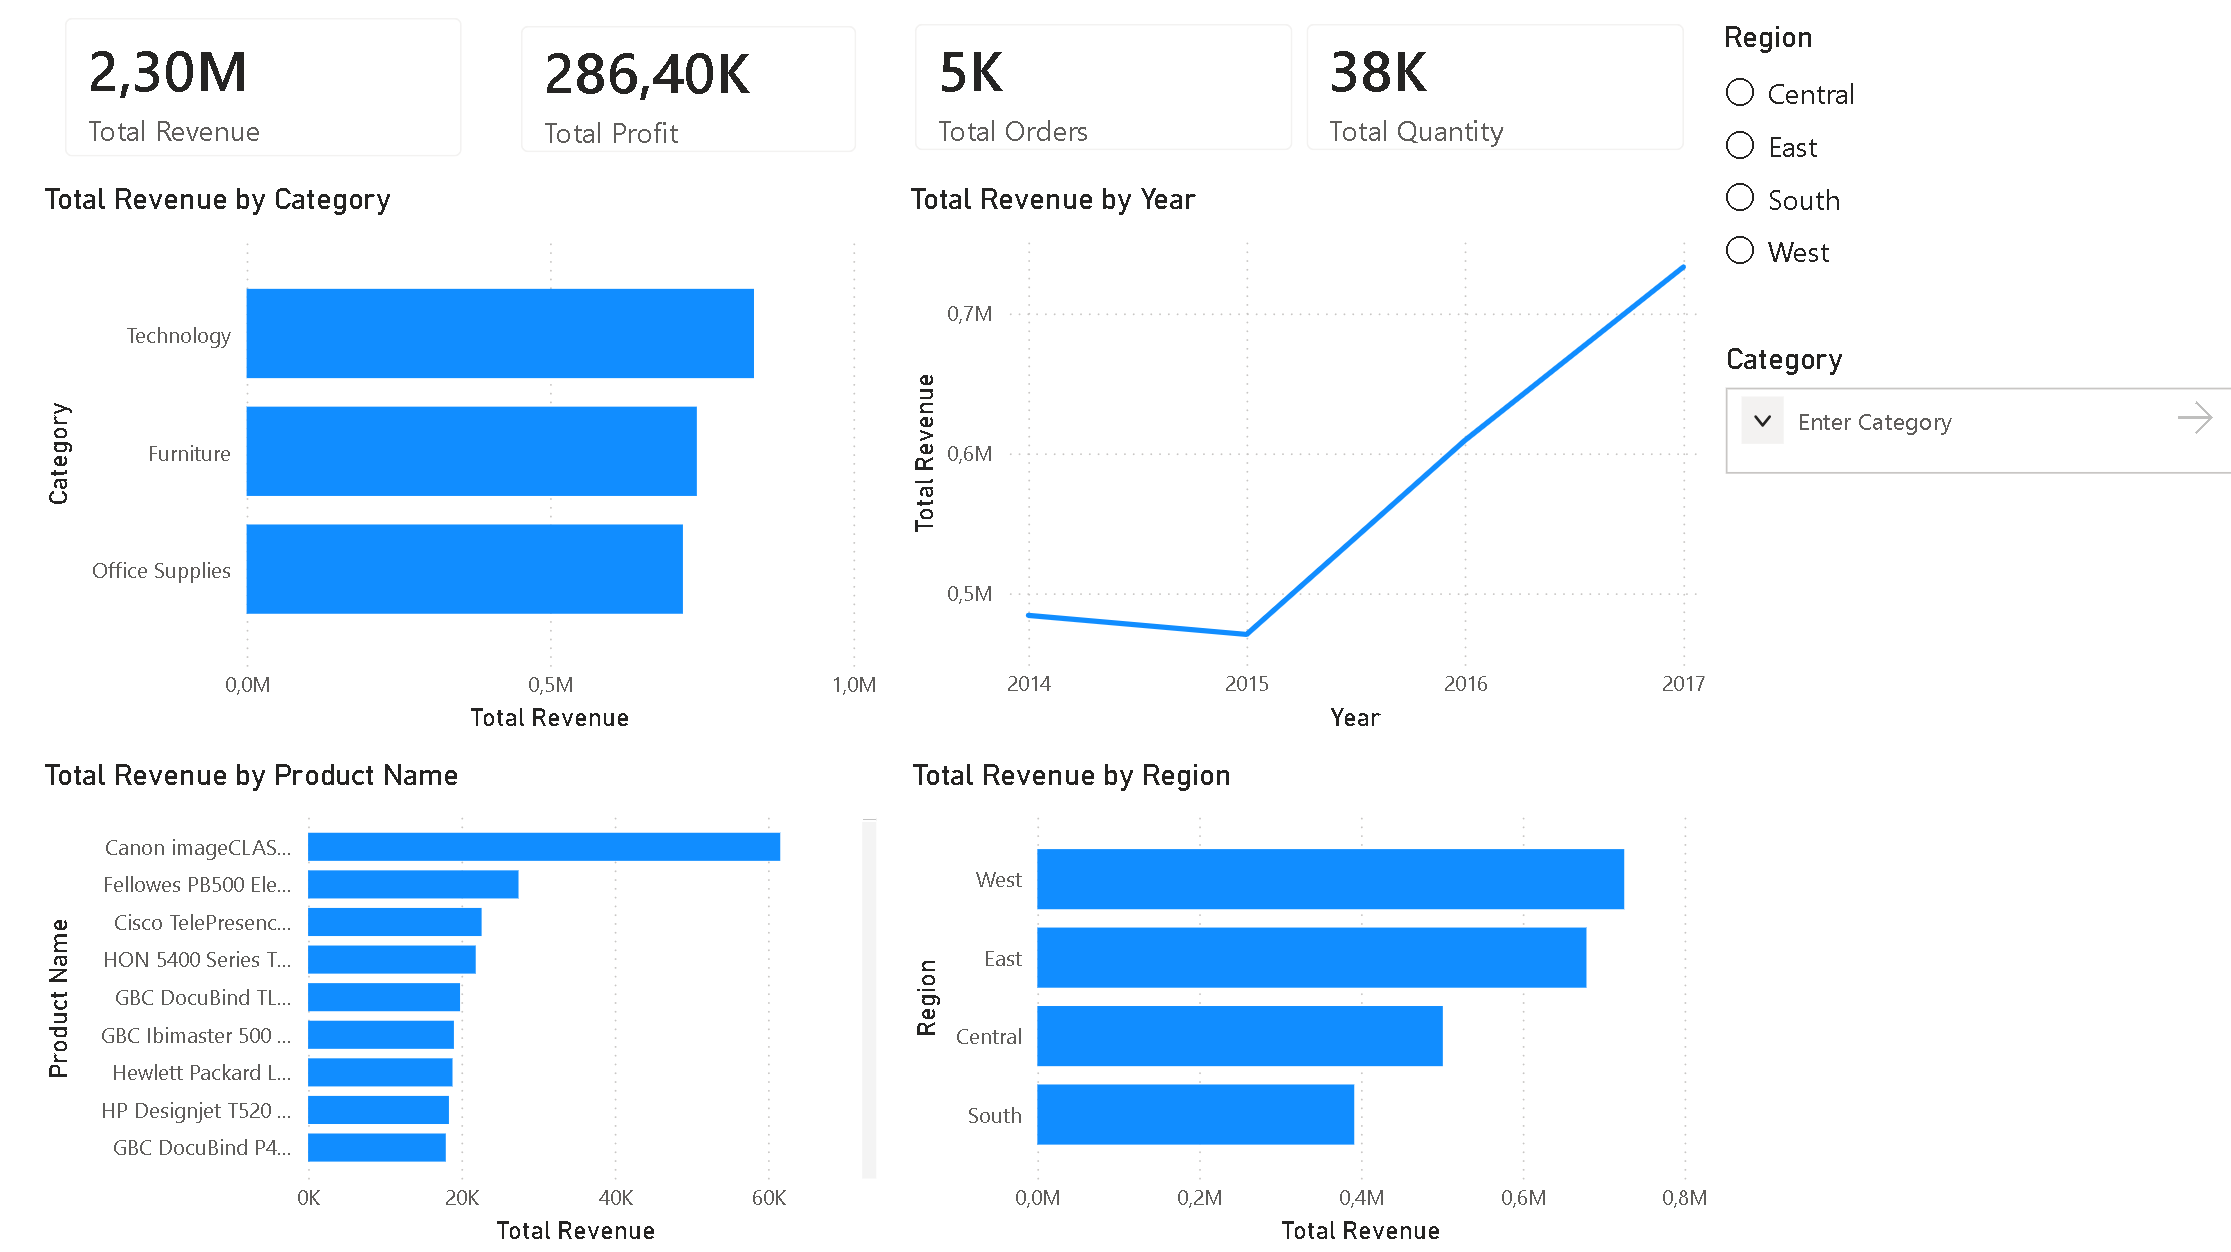

This screenshot's page, from the dashboard's own definition file:
{"tool":"powerbi","page":{"name":"Page 1","canvas":[1280,720],"ordinal":0},"visuals":[{"type":"barChart","fields":{"Category":["Sample - Superstore.Category"],"Y":["Sample - Superstore.Total Revenue"]},"box":[24,110,484,318],"z":0},{"type":"cardVisual","fields":{"Data":["Sample - Superstore.Total Revenue"]},"box":[24,0,260,113],"z":1},{"type":"cardVisual","fields":{"Data":["Sample - Superstore.Total Profit"]},"box":[284,4,225,106],"z":2},{"type":"cardVisual","fields":{"Data":["Sample - Superstore.Total Orders","Sample - Superstore.Total Quantity"]},"box":[507.5,3.8,472.5,106.2],"z":3},{"type":"lineChart","fields":{"Category":["Sample - Superstore.Order Date.Variation.Date Hierarchy.Year","Sample - Superstore.Order Date.Variation.Date Hierarchy.Quarter","Sample - Superstore.Order Date.Variation.Date Hierarchy.Month","Sample - Superstore.Order Date.Variation.Date Hierarchy.Day"],"Y":["Sample - Superstore.Total Revenue"]},"box":[517.5,110,462.5,317.5],"z":4},{"type":"barChart","fields":{"Category":["Sample - Superstore.Product Name"],"Y":["Sample - Superstore.Total Revenue"]},"box":[24,438,484,282],"z":5},{"type":"barChart","fields":{"Category":["Sample - Superstore.Region"],"Y":["Sample - Superstore.Total Revenue"]},"box":[518,438,463,282],"z":6},{"type":"textSlicer","fields":{"Values":["Sample - Superstore.Category"]},"box":[981.2,201.2,298.8,80],"z":7},{"type":"listSlicer","fields":{"Values":["Sample - Superstore.Region"]},"box":[980,18.8,288.8,151.2],"z":8}]}

Visuals, with their boxes in screenshot pixels (x1, y1, x2, y2), scaled from the page's 1280x720 canvas onto the 2231x1252 screenshot:
barChart - Sample - Superstore.Category x Sample - Superstore.Total Revenue: [42, 191, 885, 744]
cardVisual - Sample - Superstore.Total Revenue: [42, 0, 495, 196]
cardVisual - Sample - Superstore.Total Profit: [495, 7, 887, 191]
cardVisual - Sample - Superstore.Total Orders x Sample - Superstore.Total Quantity: [885, 7, 1708, 191]
lineChart - Sample - Superstore.Order Date.Variation.Date Hierarchy.Year x Sample - Superstore.Order Date.Variation.Date Hierarchy.Quarter: [902, 191, 1708, 743]
barChart - Sample - Superstore.Product Name x Sample - Superstore.Total Revenue: [42, 762, 885, 1251]
barChart - Sample - Superstore.Region x Sample - Superstore.Total Revenue: [903, 762, 1710, 1251]
textSlicer - Sample - Superstore.Category: [1710, 350, 2230, 489]
listSlicer - Sample - Superstore.Region: [1708, 33, 2211, 296]
